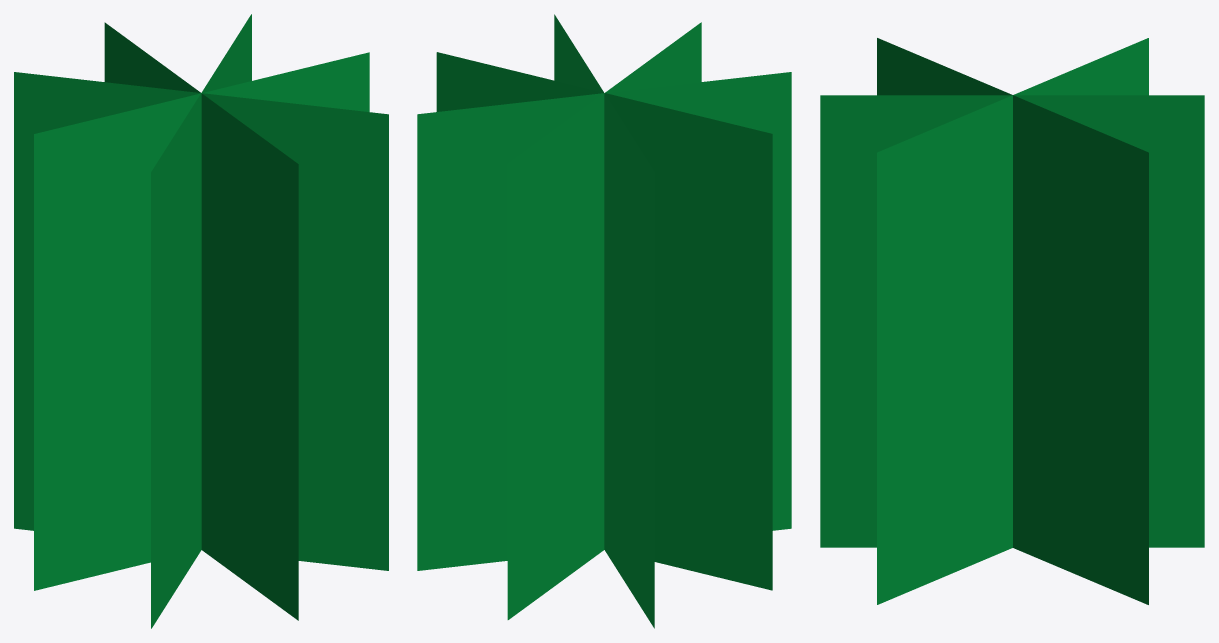
3 renders of one model, left to right at view 1: azimuth 30°, elevation 25°; view 2: azimuth 150°, elevation 25°; view 3: azimuth 270°, elevation 25°, orthographic.
Visible parts, largest first — view 1: Plane002; view 2: Plane002; view 3: Plane002.
Boxes of the visible parts, x1,y1,x2,y2 form: Plane002: (14, 14, 388, 628); Plane002: (417, 14, 791, 628); Plane002: (820, 38, 1204, 604).
Size of the model in its own units: 18.01 by 23.4 by 18.02.
